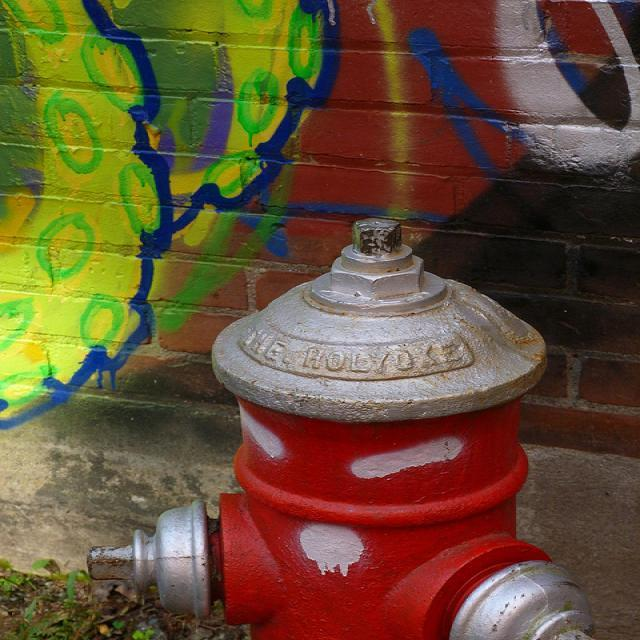fire_hydrant: (86, 216, 586, 640)
